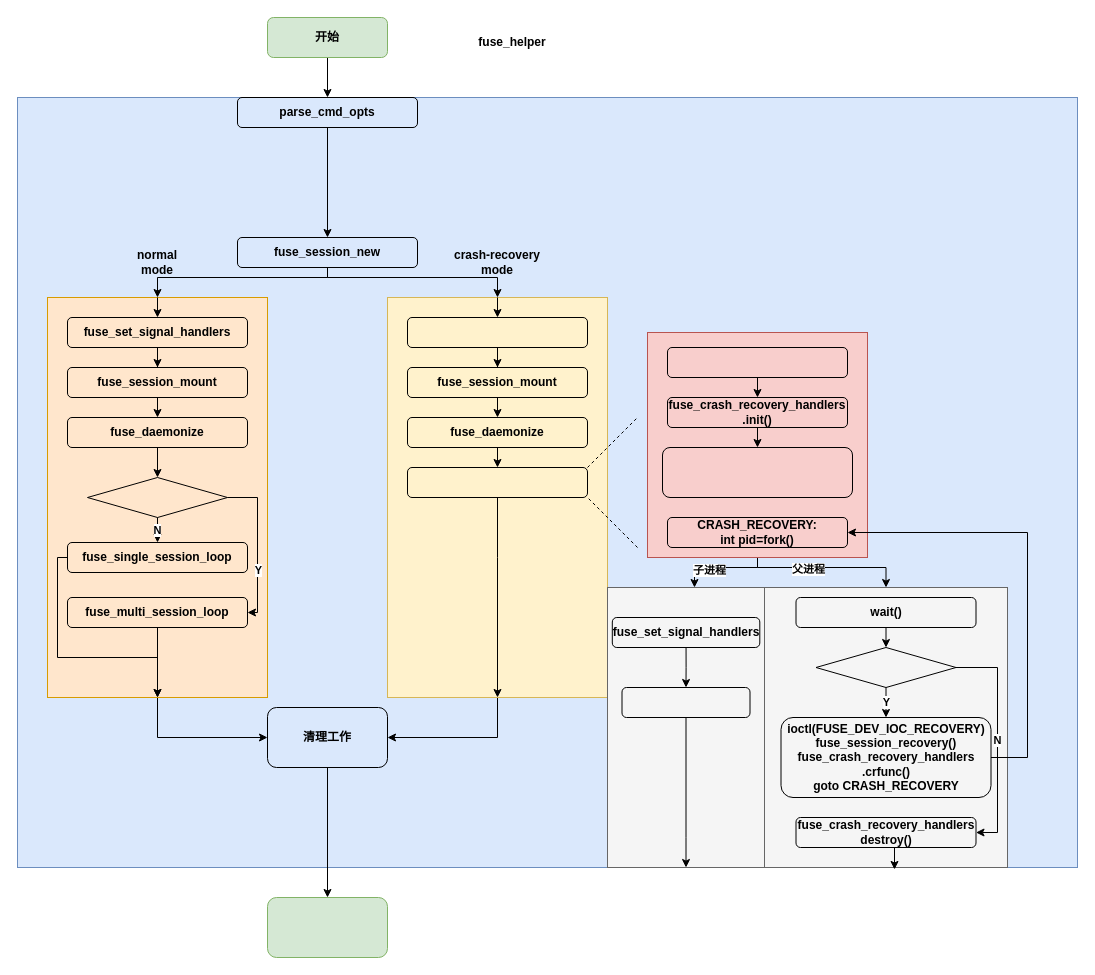
The diagram is 1095 pixels wide and 975 high, and some of its shapes have lost their labels. Each missing label, with the centre of its shape:
crash?: pixel 885 667
fuse_crash_recovery_start: pixel 497 482
fuse_session_loop: pixel 685 702
fuse_set_signal_ignore: pixel 497 332
mmap struct fuse_session: pixel 757 362
multithread?: pixel 157 497
pthread_create( fuse_crash_recovery_handlers .nhandler): pixel 757 472
结束: pixel 327 927
